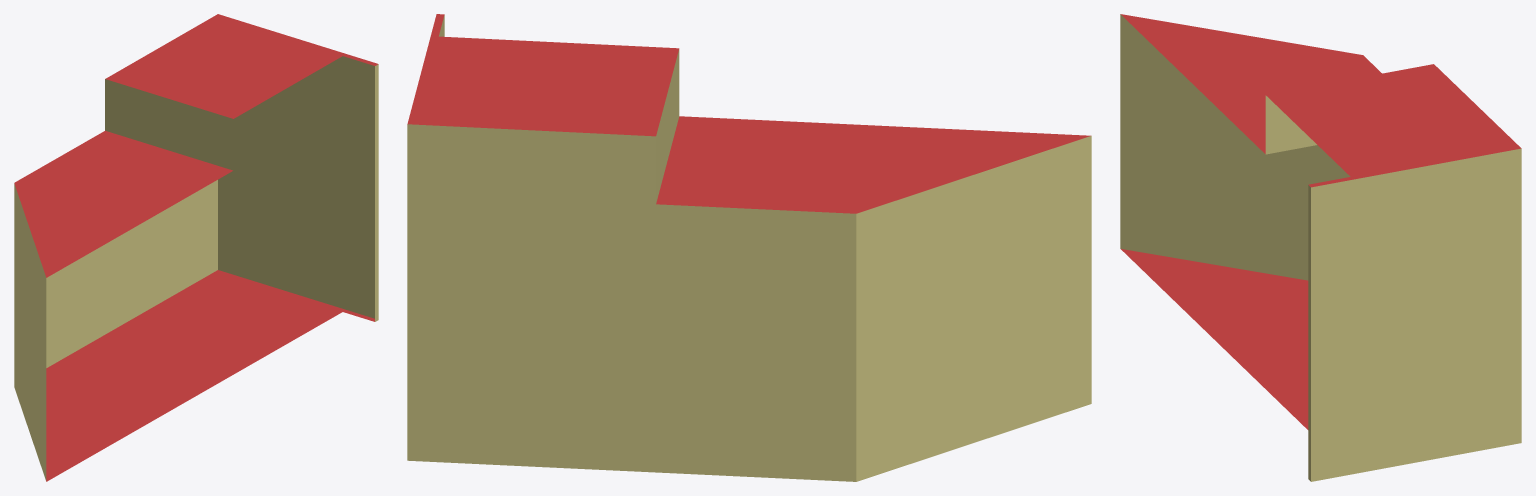
The picture shows the model from 3 angles, left to right: view 1: azimuth 30°, elevation 25°; view 2: azimuth 150°, elevation 25°; view 3: azimuth 270°, elevation 25°; orthographic projection. The views are drawn at different scales.
Bounding box in the file's own units: 12.41 × 9.02 × 7.31.
